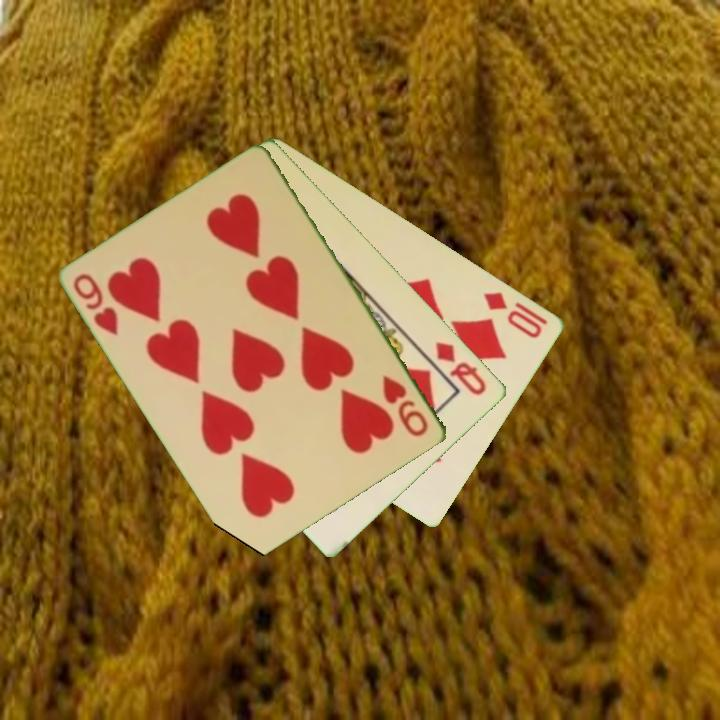10d: (480, 288, 546, 341)
9h: (379, 371, 432, 440), (69, 270, 122, 339)
Qd: (432, 338, 490, 399)
